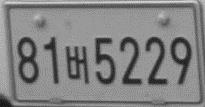1: (43, 35, 59, 84)
2: (119, 35, 143, 85), (145, 35, 168, 85)
5: (94, 36, 115, 84)
8: (16, 35, 39, 83)
9: (169, 35, 192, 84)
버: (65, 45, 89, 83)
